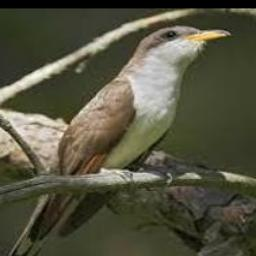Cuckoo: (0, 25, 232, 256)
